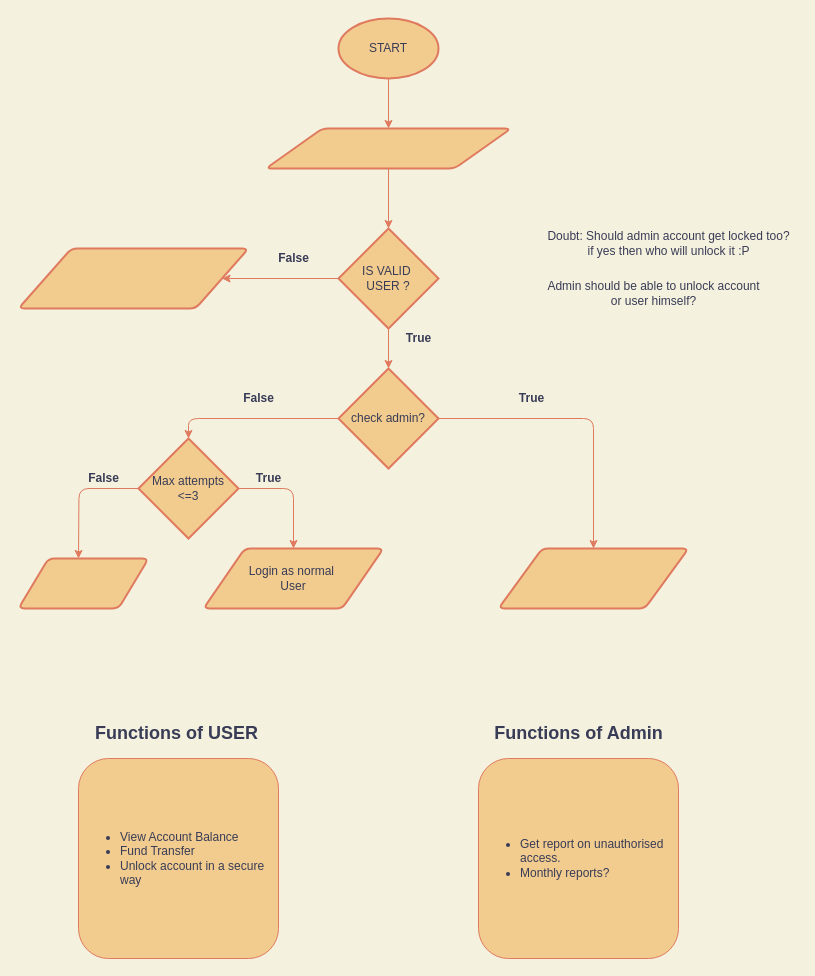
Image size: 815x976. Some labels were removed from this diagram. The box of each missing label's shape, as (x1, y1, x2, y2) in pixels:
Inform Admin : Unauthorised Access: (17, 247, 249, 309)
Lock account: (17, 557, 149, 609)
Login as Admin: (497, 547, 689, 609)
Take Input from User: (264, 127, 512, 169)
